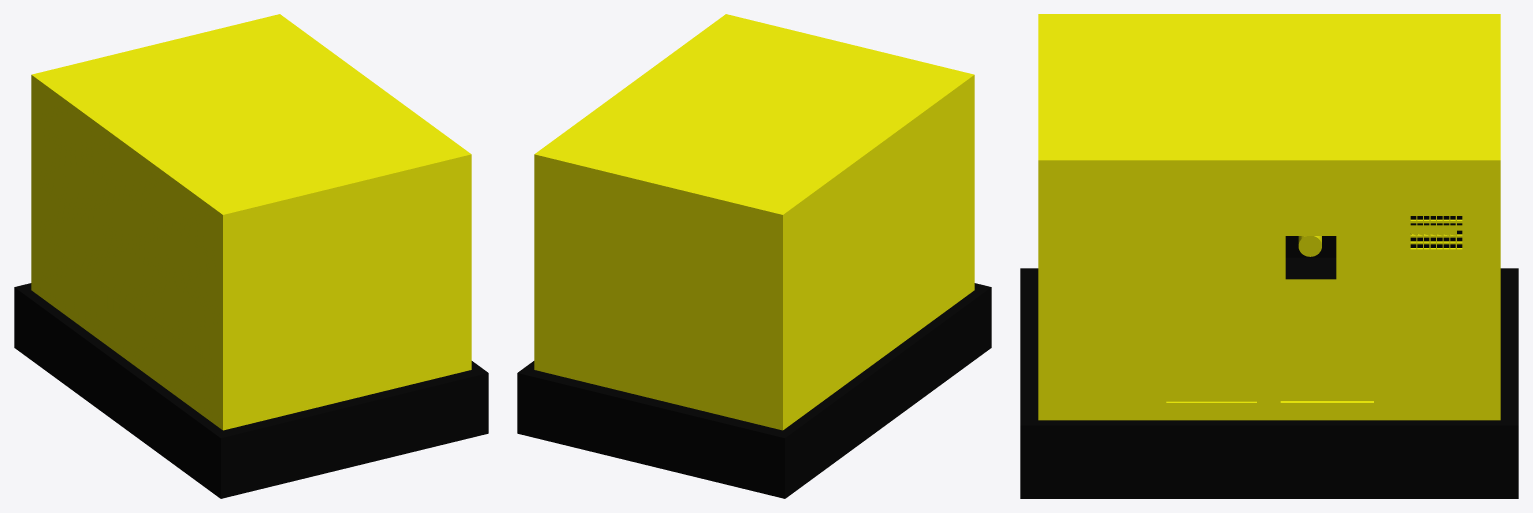
Rendered from Generator2.fbx.
3 views of the same model, side by side, from view 1: azimuth 30°, elevation 25°; view 2: azimuth 150°, elevation 25°; view 3: azimuth 270°, elevation 25° (orthographic). The views are drawn at different scales.
Visible parts, largest first — view 1: Cube; view 2: Cube; view 3: Cube.
Boxes of the visible parts, box(x1,y1,x2,y2) form: Cube: box(14, 14, 488, 498); Cube: box(517, 14, 991, 498); Cube: box(1020, 14, 1518, 498).
Size of the model in its own units: 1645 by 1621 by 2197.
